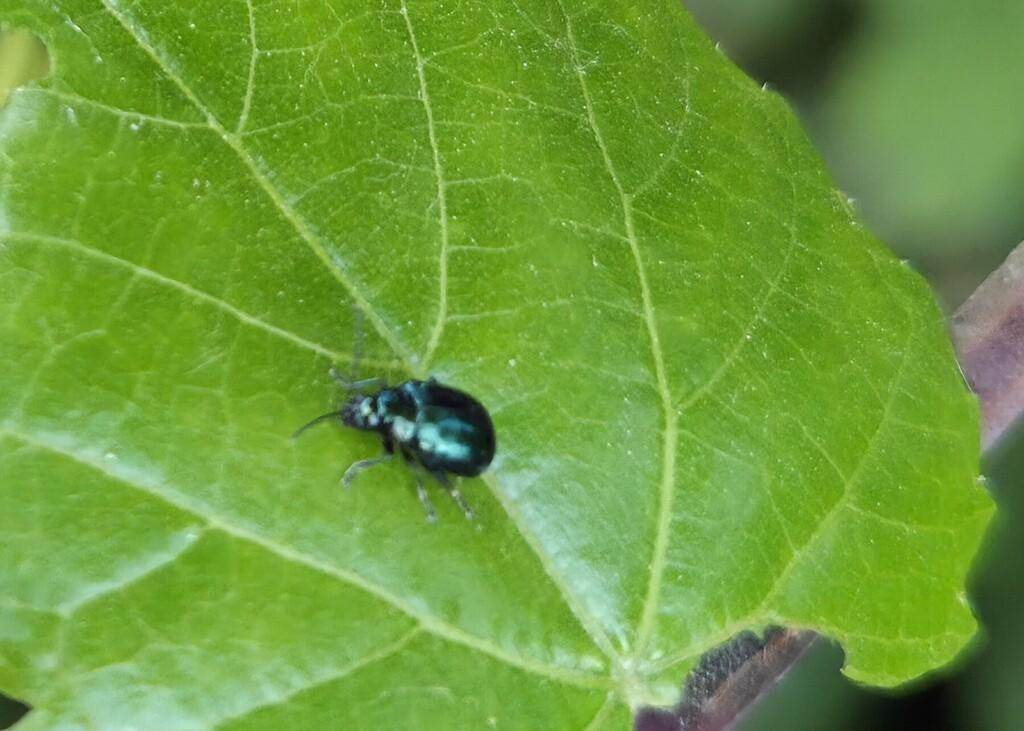flea_beetle: (268, 327, 556, 545)
